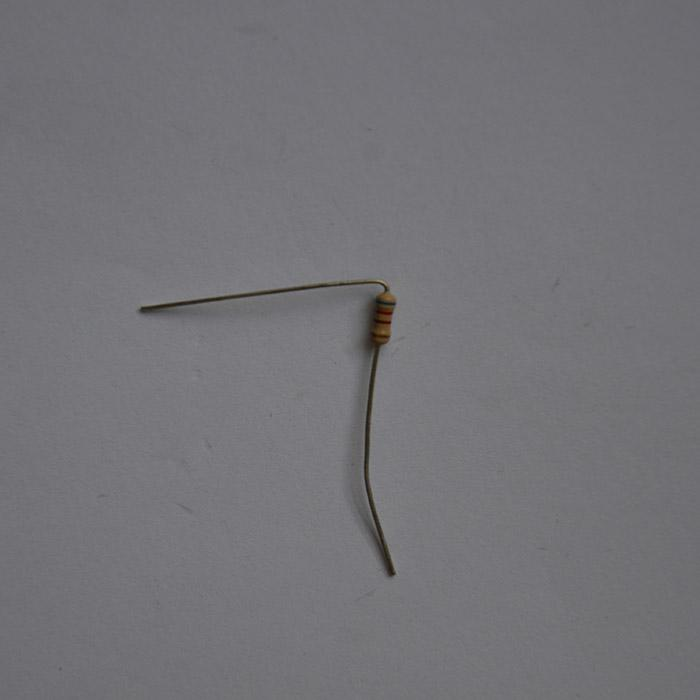resistor: (371, 291, 395, 344)
